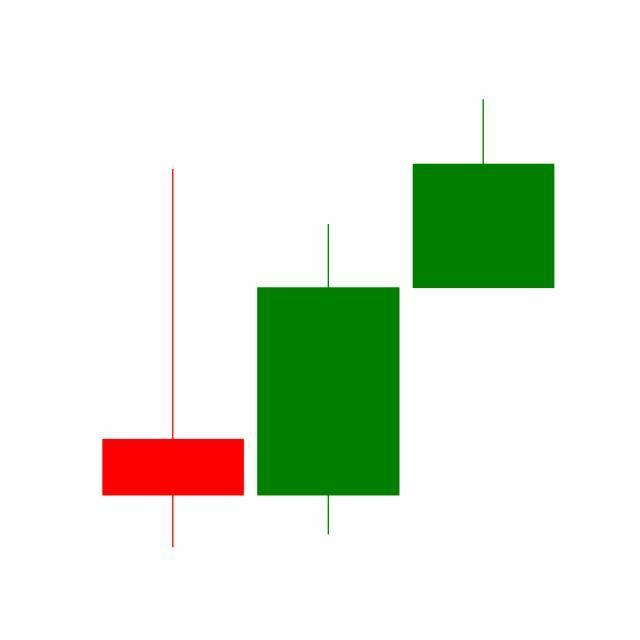Marubozu: (250, 221, 407, 539)
